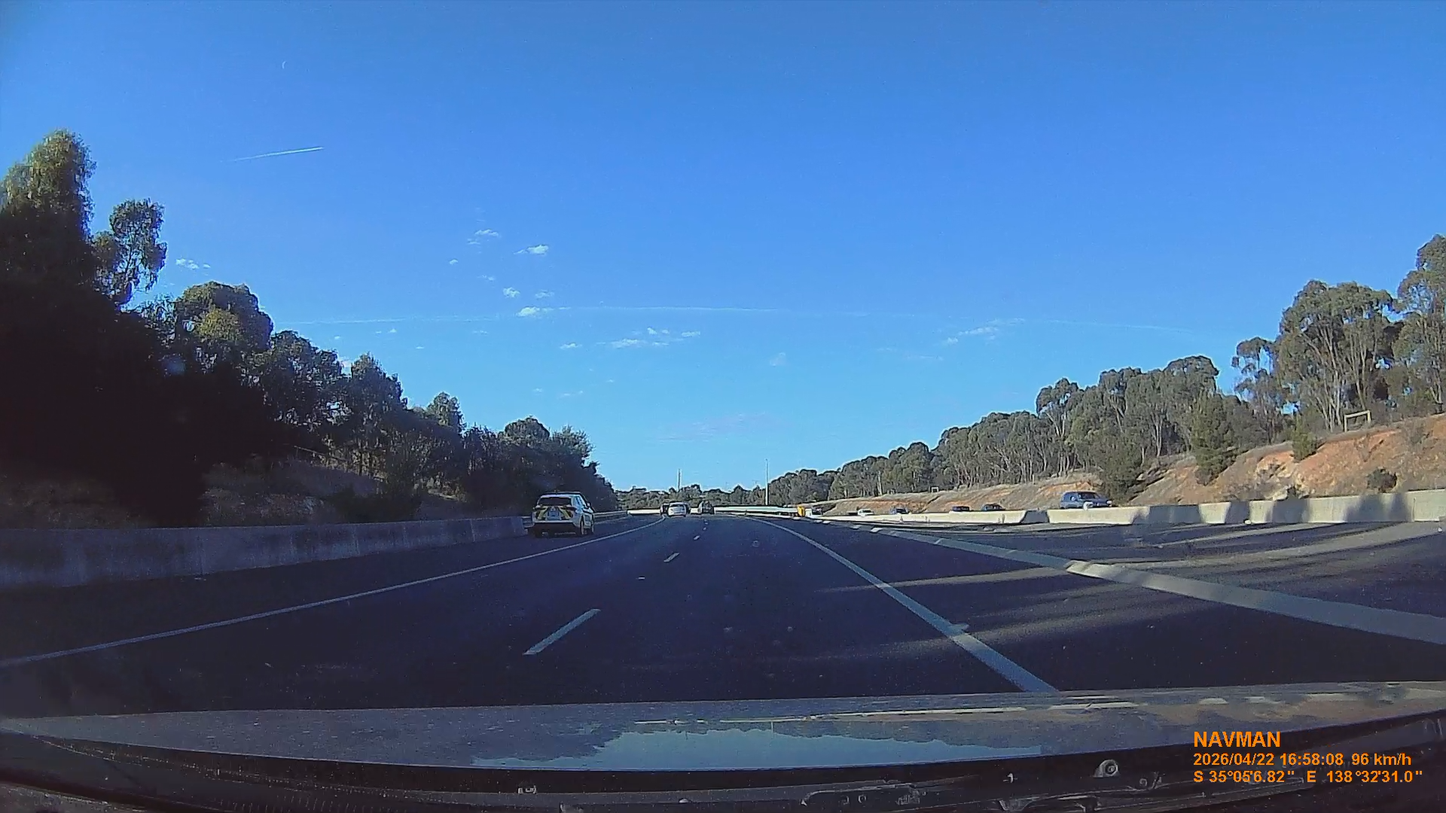road barriers: (0, 516, 529, 590), (822, 494, 1445, 531), (691, 504, 819, 519), (596, 510, 628, 522)
